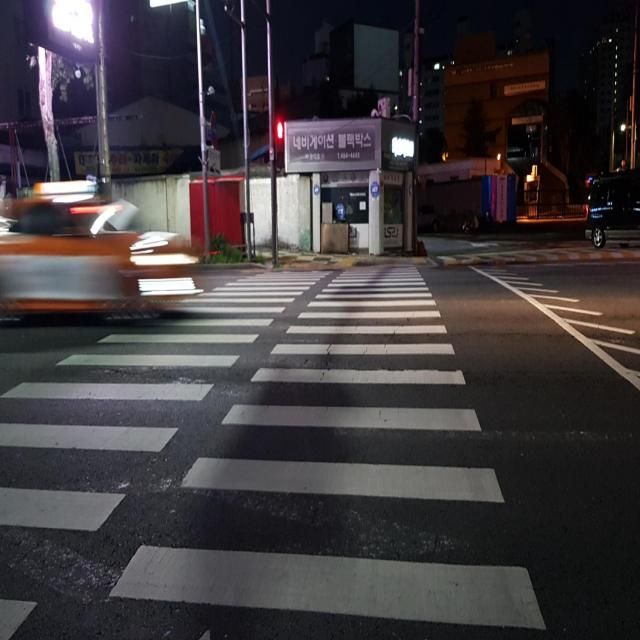빨간불: (275, 122, 285, 168)
횡단보도: (0, 259, 547, 640)
